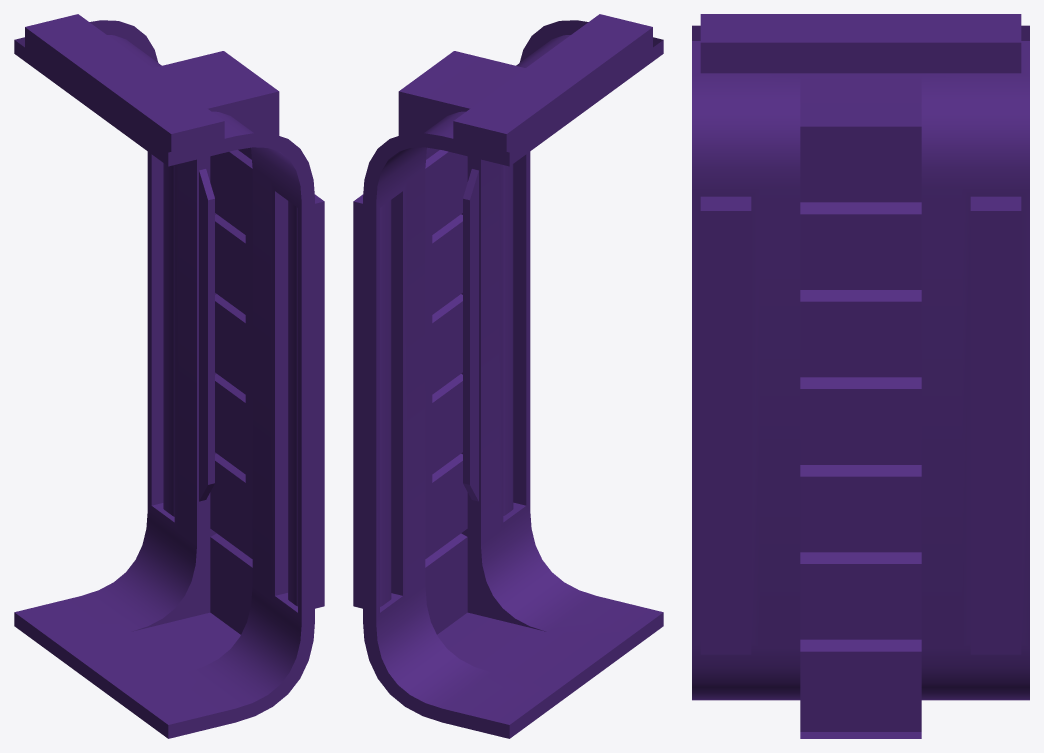
The model's file is Wall_C_4x2m.FBX.
3 renders of one model, left to right at view 1: azimuth 30°, elevation 25°; view 2: azimuth 150°, elevation 25°; view 3: azimuth 270°, elevation 25°, orthographic. The views are drawn at different scales.
Visible parts, largest first — view 1: Wall_C_4x2m; view 2: Wall_C_4x2m; view 3: Wall_C_4x2m.
Boxes of the visible parts, x1=… form: Wall_C_4x2m: x1=14, y1=14, x2=324, y2=738; Wall_C_4x2m: x1=353, y1=14, x2=663, y2=738; Wall_C_4x2m: x1=692, y1=14, x2=1029, y2=738.
Size of the model in its own units: 120 by 430 by 200.
